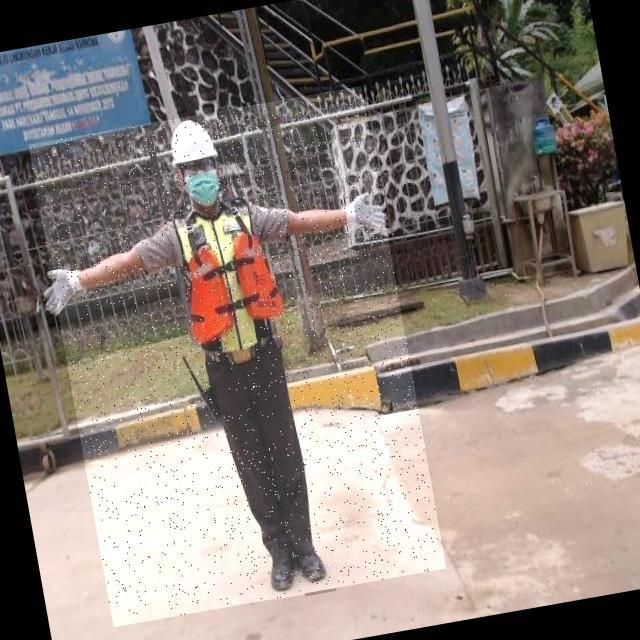Gloves: (42, 254, 96, 320), (340, 186, 398, 241)
Helmet: (166, 116, 225, 170)
Person: (30, 104, 435, 615)
Safety Boot: (295, 535, 336, 596), (264, 541, 306, 600)
Safety Vest: (157, 188, 295, 365)
